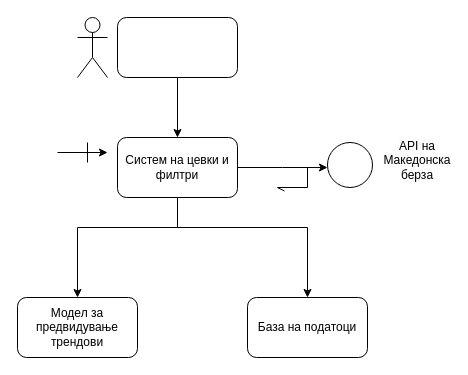
Some shapes in this 468 by 375 pixel diagram are drawn without their labels. Here are the shapes that lost their labels. From the top down, the centre of each, then its label:
At pixel 92 47: "Корисник".
At pixel 177 47: "Кориснички интерфејс (UI)".
